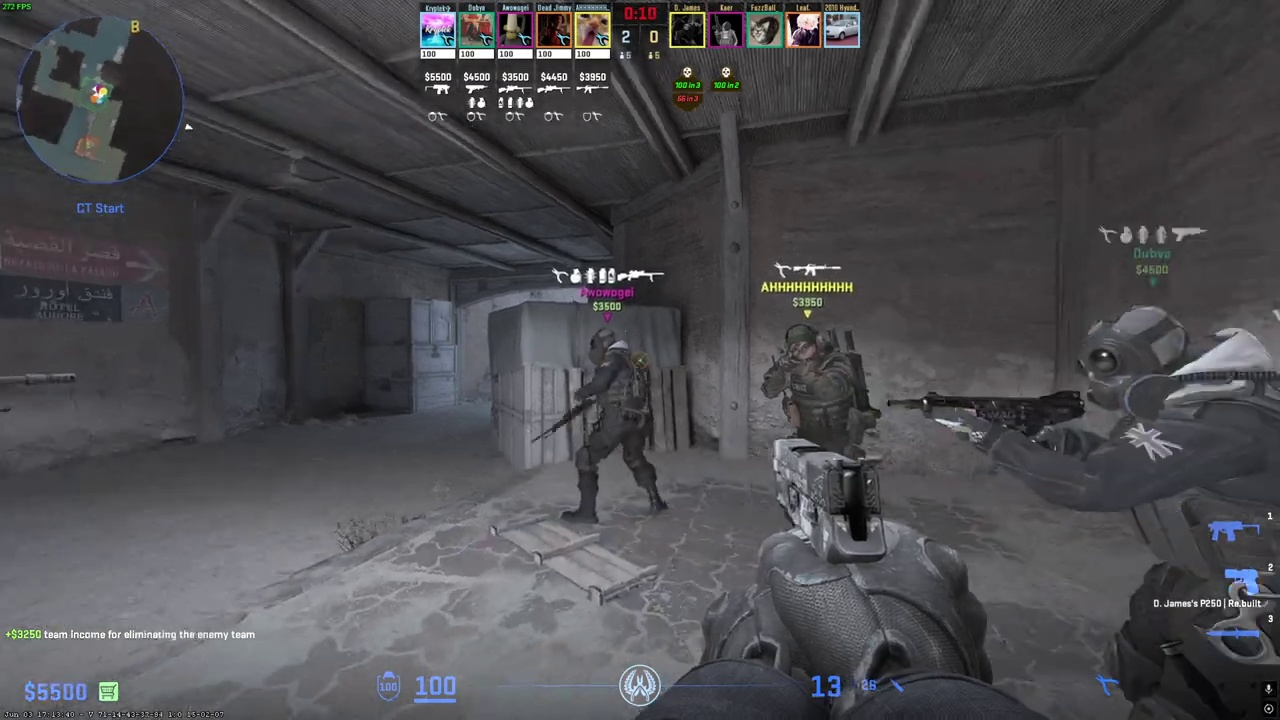CT: (1046, 303, 1280, 720), (566, 327, 664, 521), (771, 323, 872, 459)
